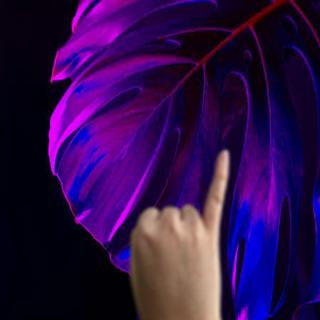FINE: (122, 146, 235, 320)
